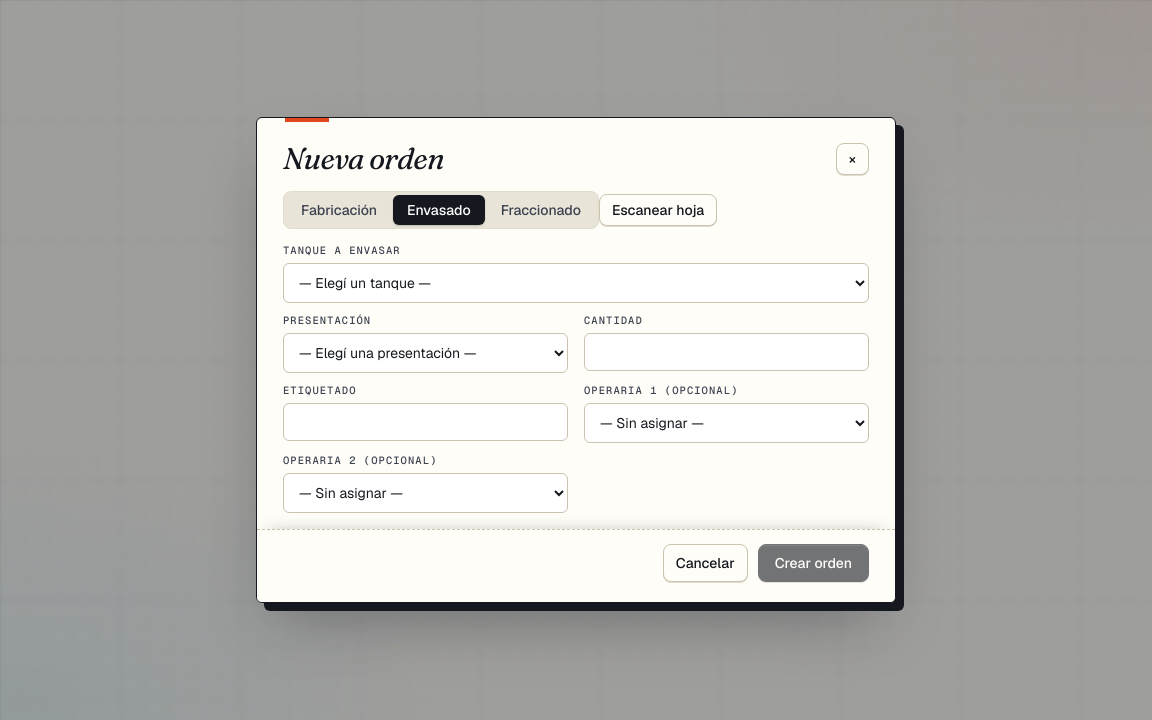
NuevaOrden · envasado › avisa si usa más de lo que queda sin asignar (descuenta envasados en cola) pero deja crear
Select "T-03 · Lavandina · quedan 100 L sin asignar" in the dropdown labelled "Tanque a envasar" at (576, 283), box [283, 263, 869, 303]
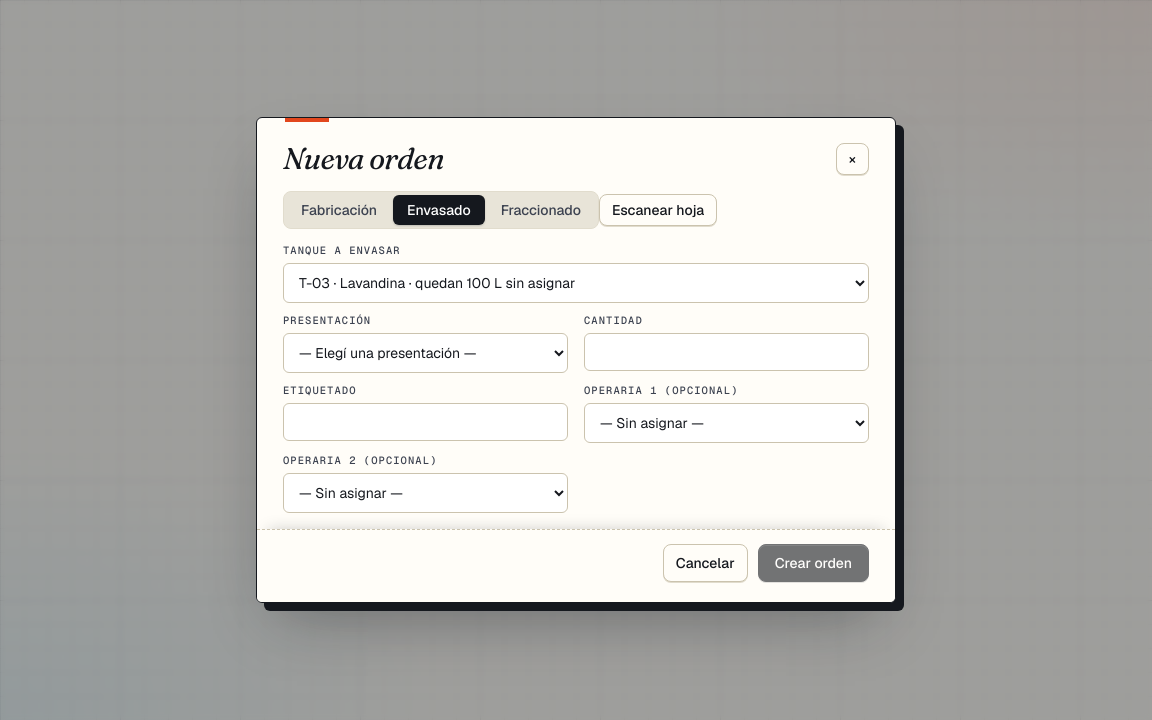
Select "5L" in the dropdown labelled "Presentación" at (426, 353), box [283, 333, 568, 373]
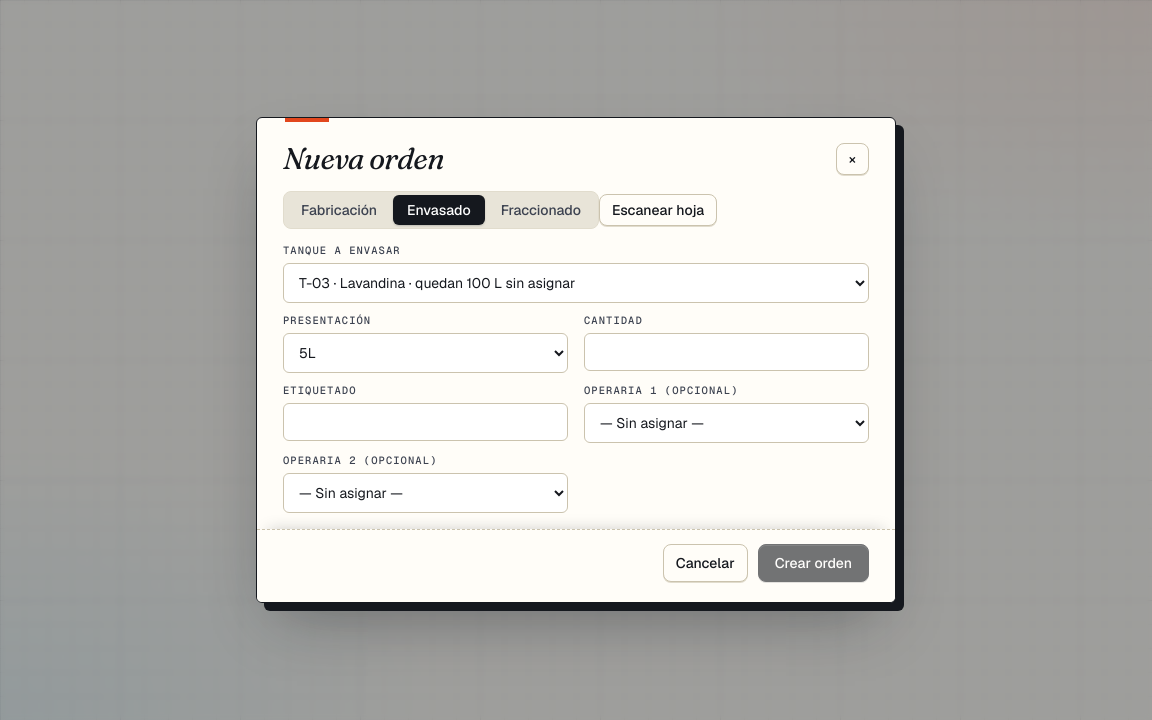
Type "40" into the number field labelled "Cantidad" at (726, 352), box [584, 333, 869, 371]
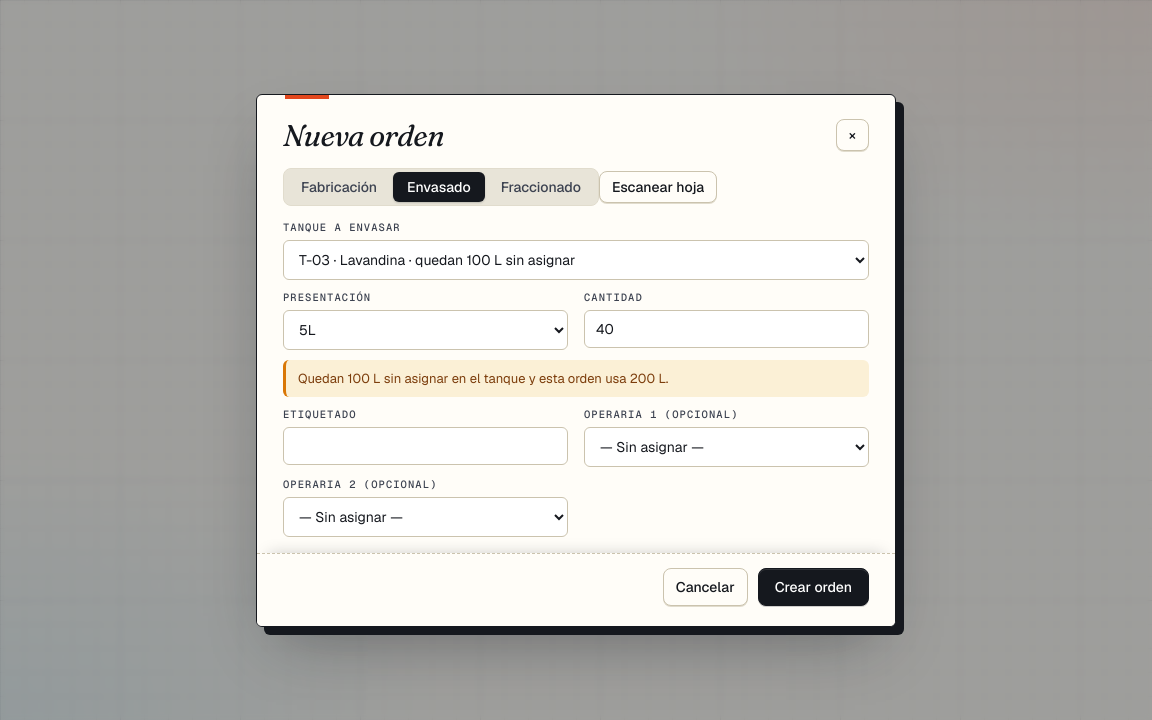
Check: the message reads "Quedan 100 L sin asignar en el tanque y esta orden usa 200 L.", box [298, 370, 668, 386]
Check: the button "Crear orden" is enabled, box [758, 568, 869, 606]
